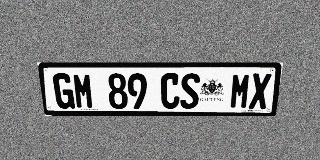8: (107, 73, 128, 109)
9: (127, 73, 147, 109)
C: (161, 73, 180, 109)
G: (52, 73, 75, 109)
M: (72, 73, 94, 109), (229, 73, 251, 109)
S: (180, 73, 200, 109)
X: (248, 73, 272, 109)
